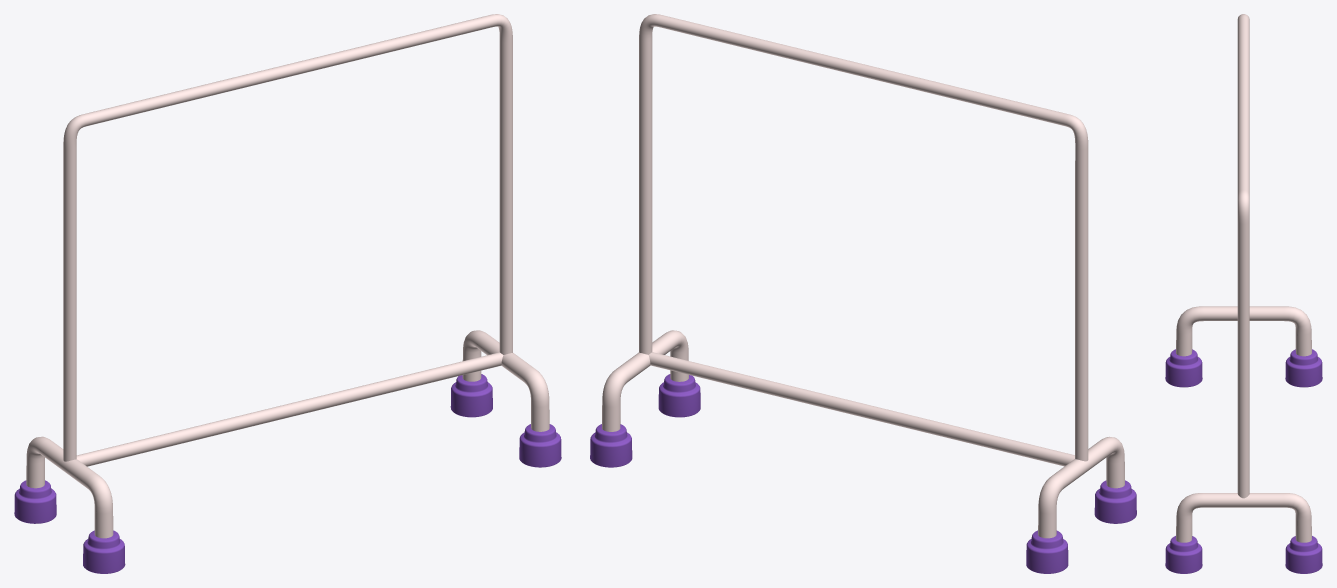
File: Public_19_Floor_hanger_1.glb
3 views of the same model, side by side, from view 1: azimuth 30°, elevation 25°; view 2: azimuth 150°, elevation 25°; view 3: azimuth 270°, elevation 25° (orthographic). The views are drawn at different scales.
Visible parts, largest first — view 1: Public_19_Floor_hanger_1; view 2: Public_19_Floor_hanger_1; view 3: Public_19_Floor_hanger_1.
Boxes of the visible parts, box(x1,y1,x2,y2) form: Public_19_Floor_hanger_1: box(14, 14, 561, 573); Public_19_Floor_hanger_1: box(590, 14, 1136, 573); Public_19_Floor_hanger_1: box(1165, 14, 1322, 573).
Size of the model in its own units: 2.93 by 2.5 by 0.9627.
Materials: 1 (1 with a texture image).
